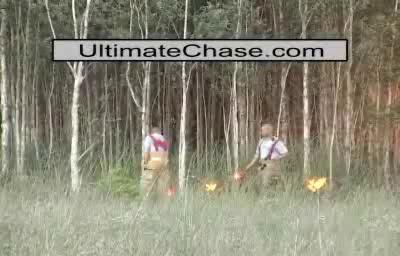fire: (305, 175, 326, 192), (204, 180, 217, 191)
